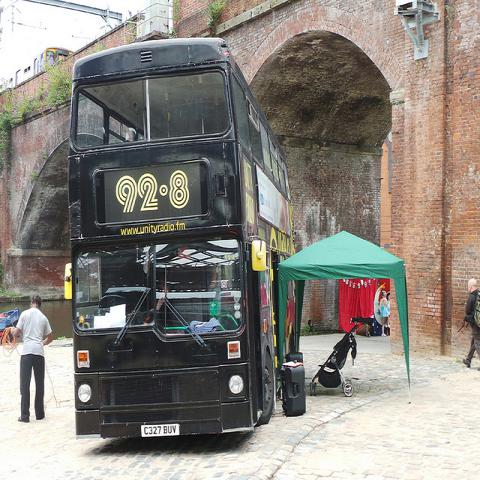bus: (64, 30, 305, 444)
